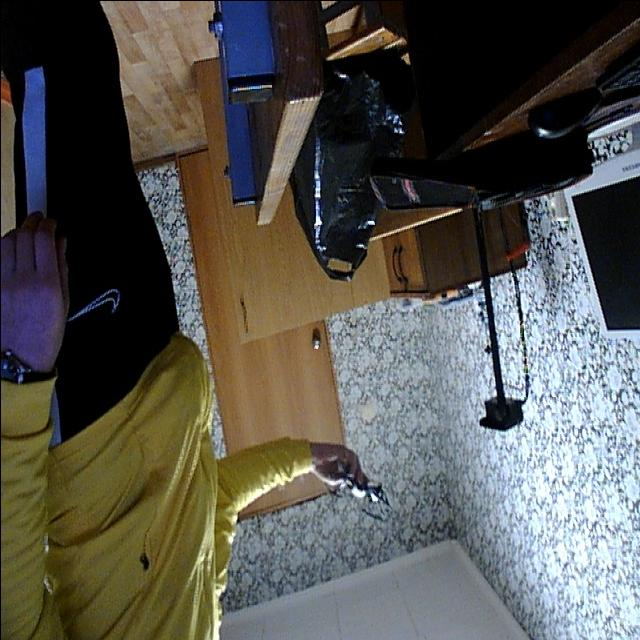drone: (320, 449, 394, 529)
